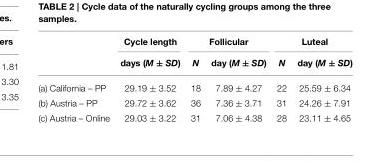table: (37, 37, 351, 122)
table column: (37, 37, 114, 122), (114, 37, 184, 122), (205, 37, 270, 122), (291, 37, 351, 122), (184, 37, 205, 122), (270, 37, 291, 122)
table column header: (37, 37, 351, 75)
table row: (37, 52, 351, 75), (37, 75, 351, 95), (37, 37, 351, 52), (37, 95, 351, 110), (37, 110, 351, 122)
table spanning cell: (114, 37, 184, 75), (184, 37, 270, 52), (270, 37, 351, 52)
